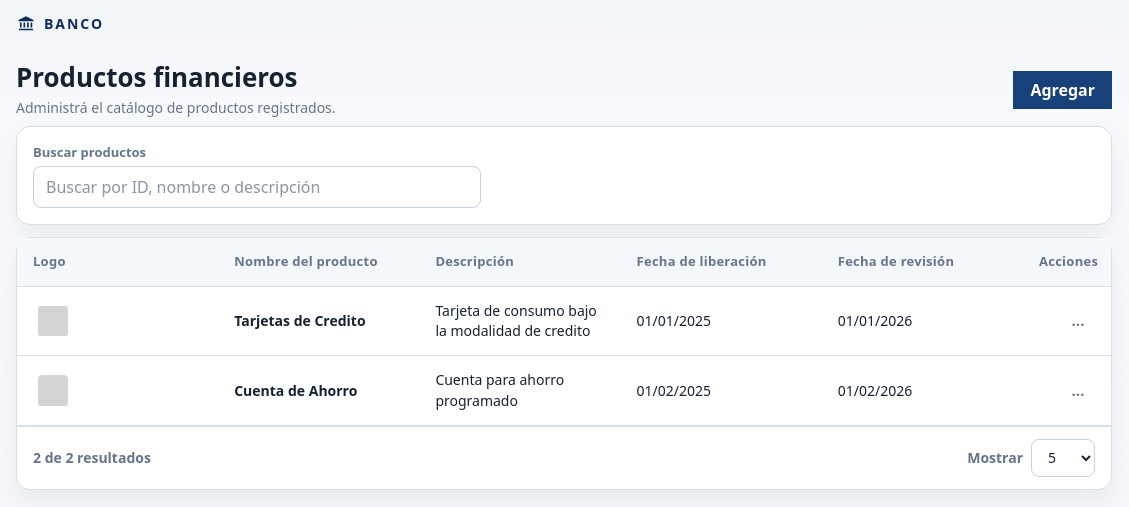
Test: ProductsListPageComponent › should close the dropdown and navigate when selecting Editar from the table
Click the button with class "actions-menu__trigger" in the row of "Tarjetas de Credito".
click(1078, 321)  # box [1061, 304, 1095, 338]
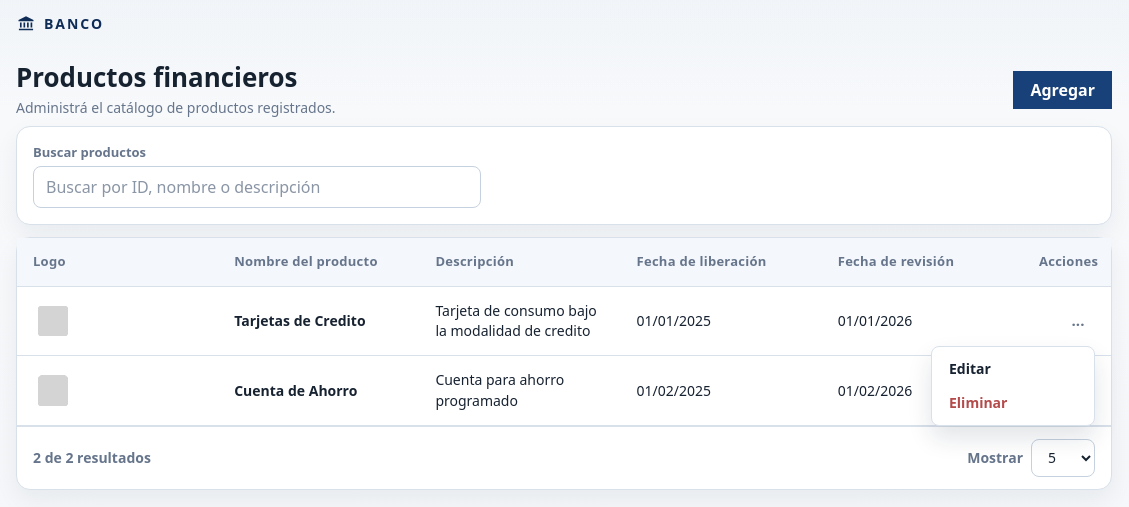
Click the menu item with class "actions-menu__item" showing "Editar".
click(1013, 369)  # box [937, 352, 1089, 386]
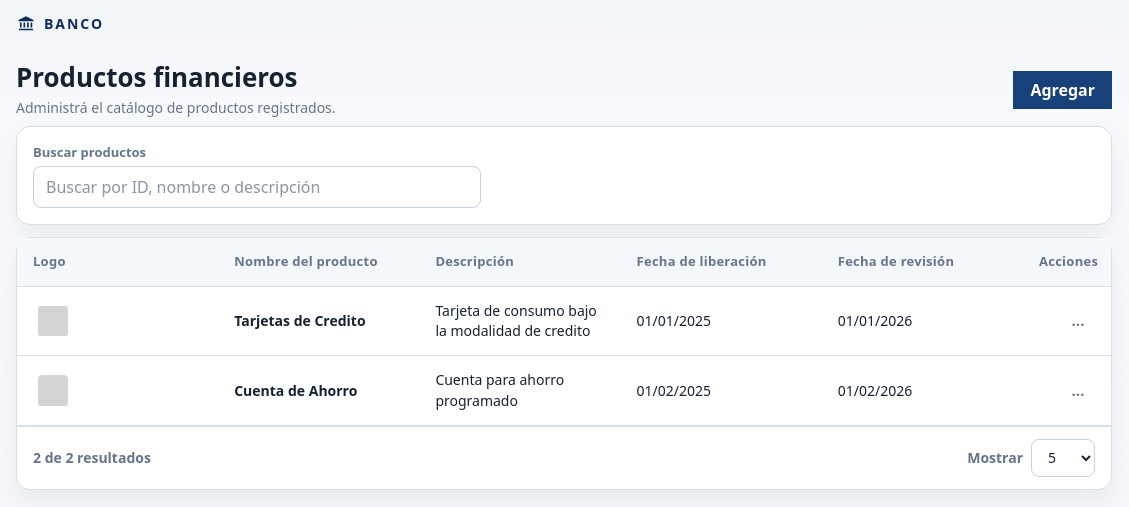
expect no menus with class "actions-menu__dropdown" are shown: met
